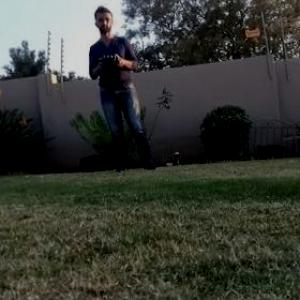follow: (86, 0, 163, 178)
